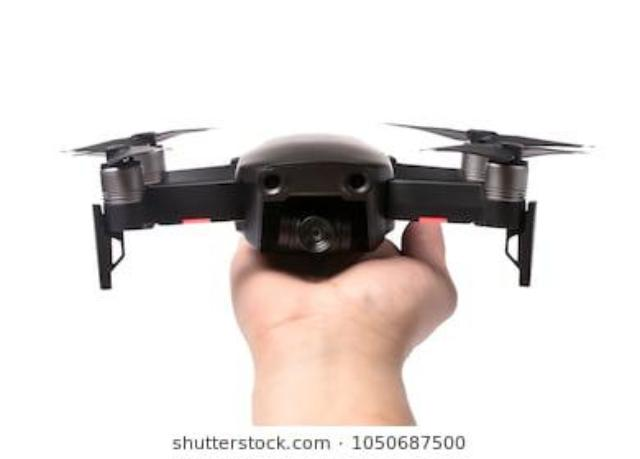drone: (51, 88, 598, 306)
